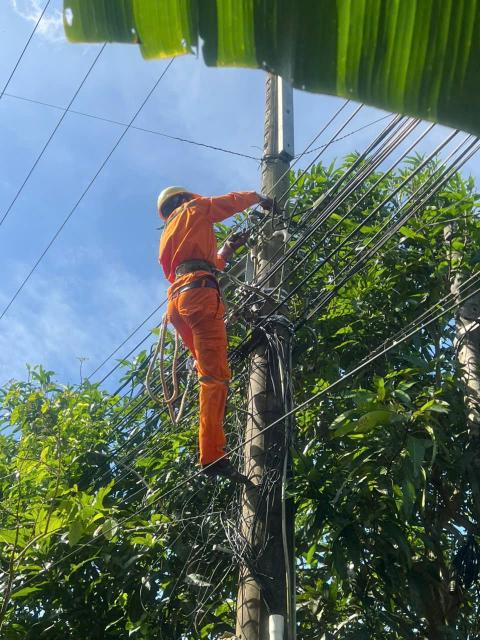gloves: (212, 228, 256, 256), (253, 189, 284, 216)
harness: (164, 252, 238, 288)
helmet: (150, 179, 203, 213)
shoes: (199, 451, 252, 485)
